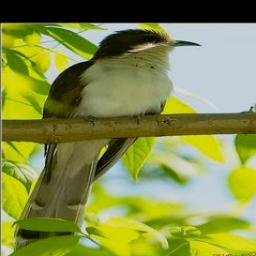Cuckoo: (11, 28, 201, 255)
